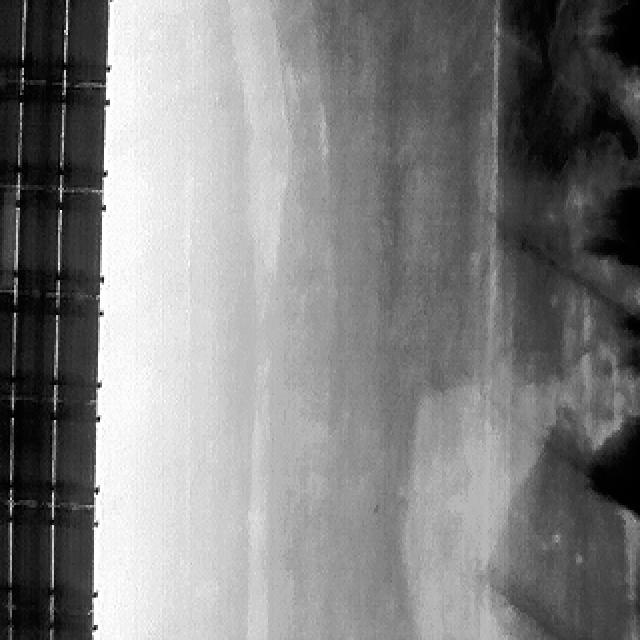PV-modules: (17, 83, 69, 190), (53, 505, 97, 619), (56, 295, 102, 403), (10, 504, 50, 623), (54, 404, 99, 509), (57, 83, 101, 190), (56, 189, 99, 295), (15, 188, 57, 296), (10, 396, 52, 503), (12, 296, 54, 403), (20, 0, 66, 90), (60, 0, 104, 88), (0, 78, 20, 190), (0, 0, 22, 92), (0, 187, 16, 294), (50, 617, 99, 639), (8, 615, 48, 639)
